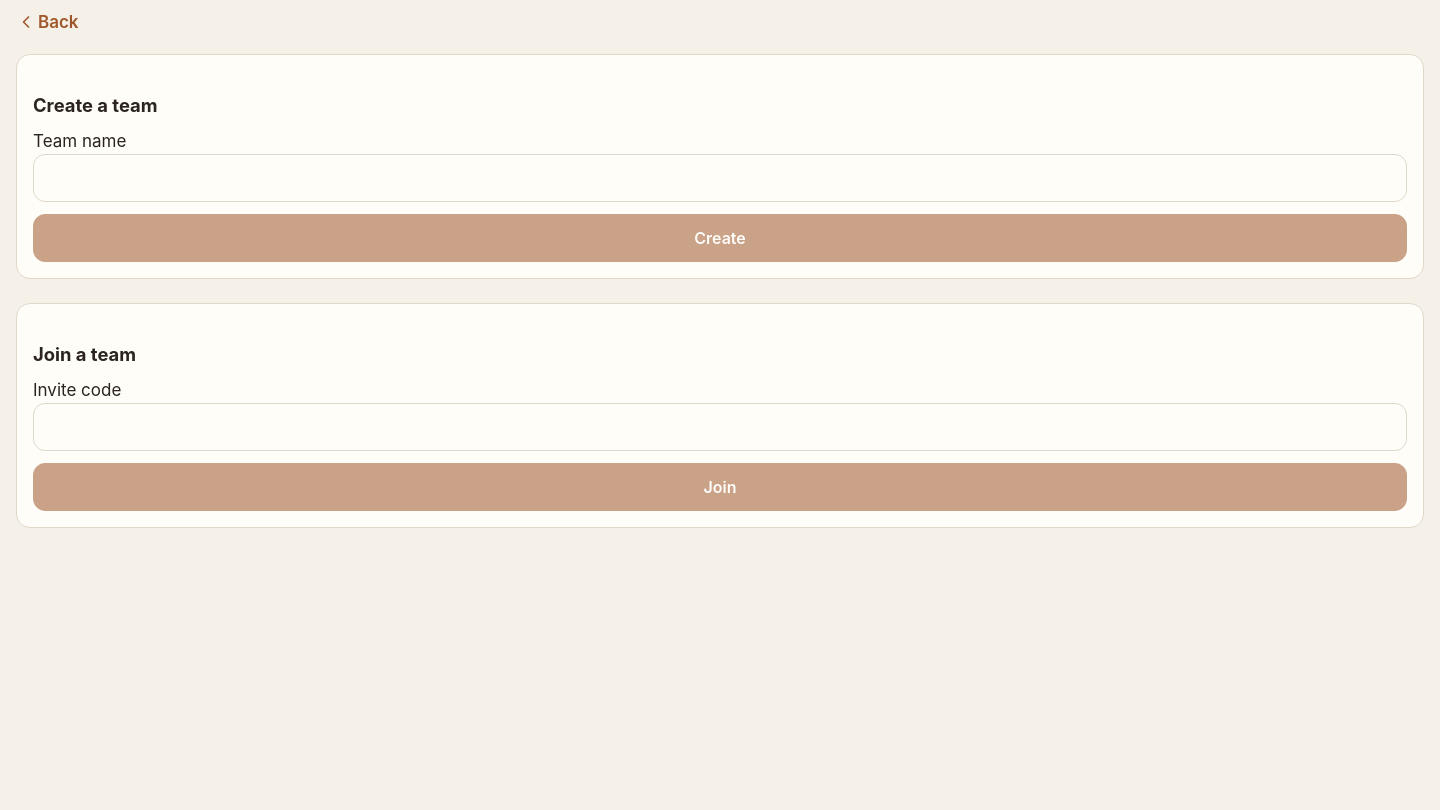
CreateJoinPage › a pending join says it is waiting for approval
The width and height of the screenshot is (1440, 810).
Type "abc123" into the field labelled "Invite code" at (720, 427), box [33, 403, 1407, 451]
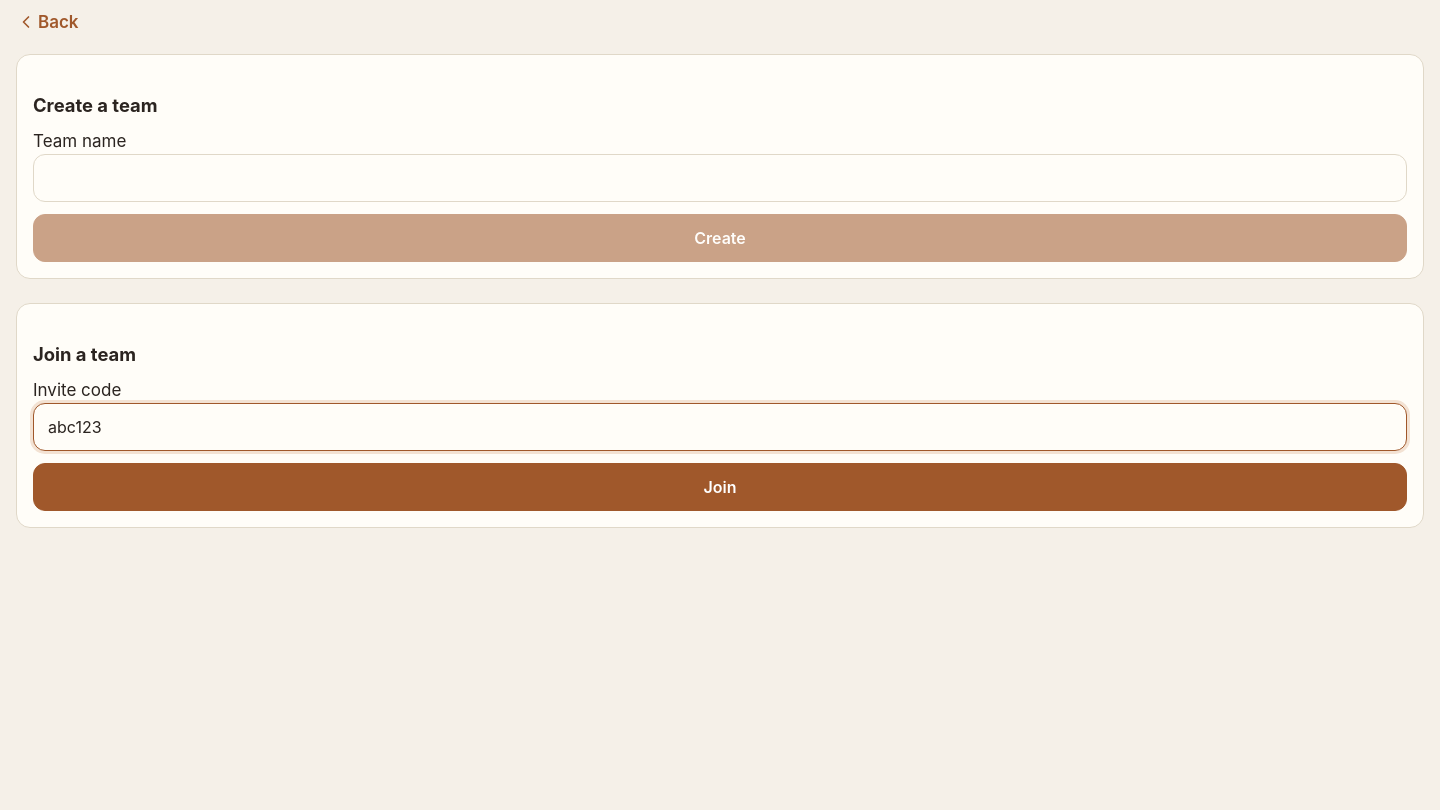
Click the button "Join" at (720, 487), box [33, 463, 1407, 511]
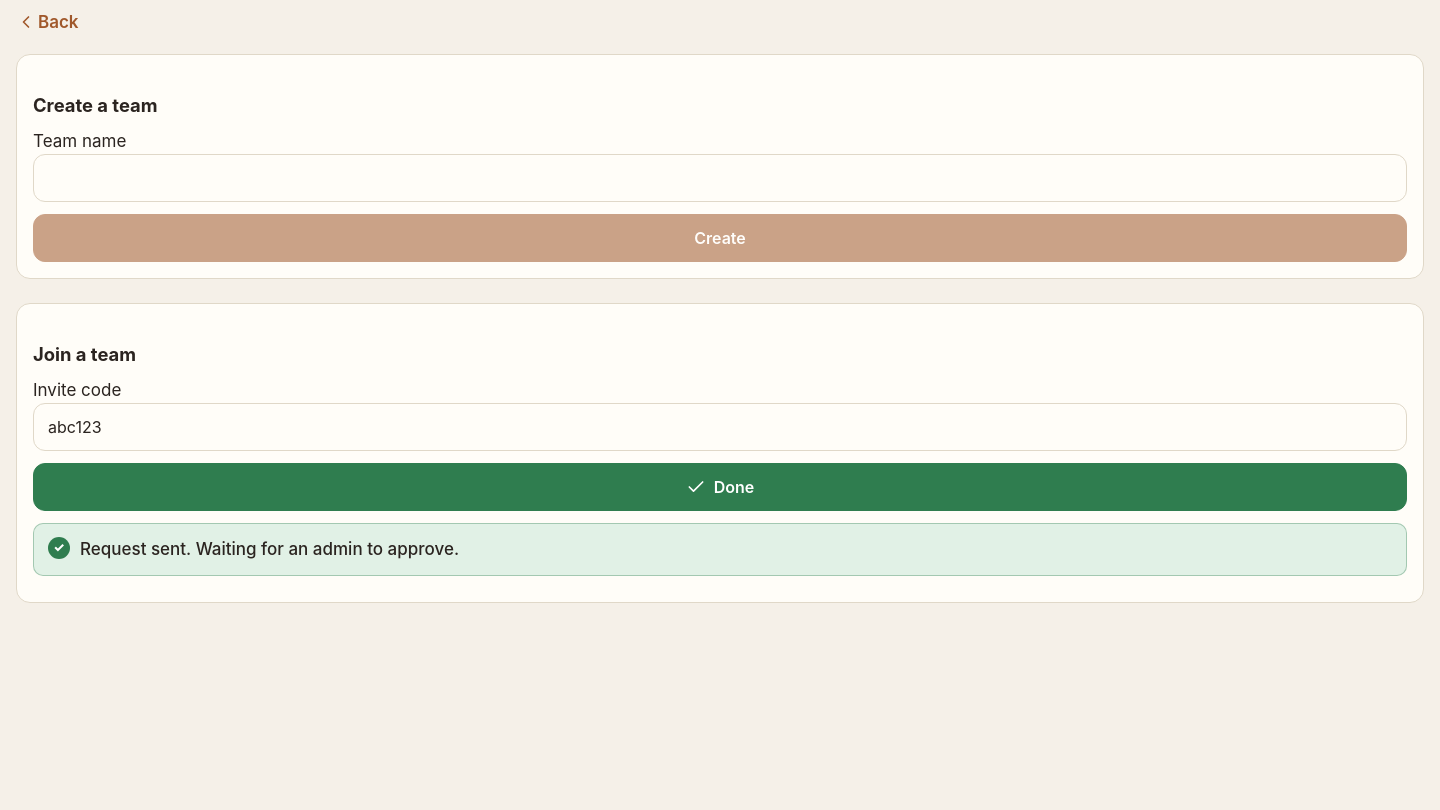
Now the text "Request sent. Waiting for an admin to approve." is shown, box [33, 523, 1407, 576]
